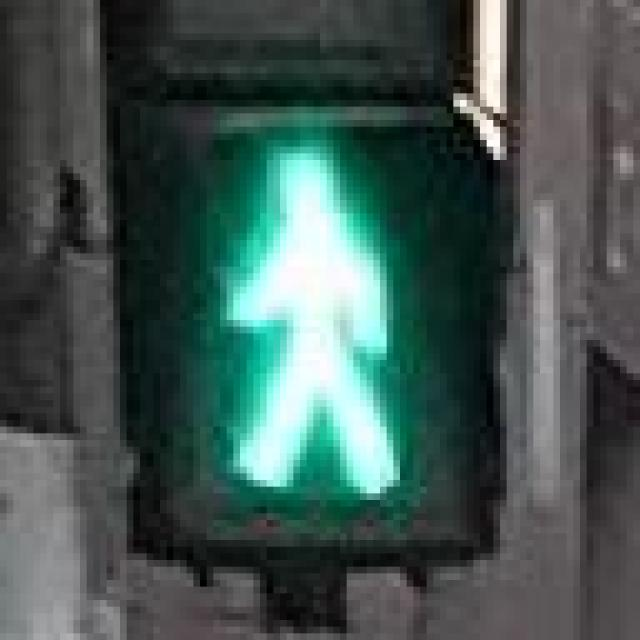green_light: (140, 100, 487, 527)
